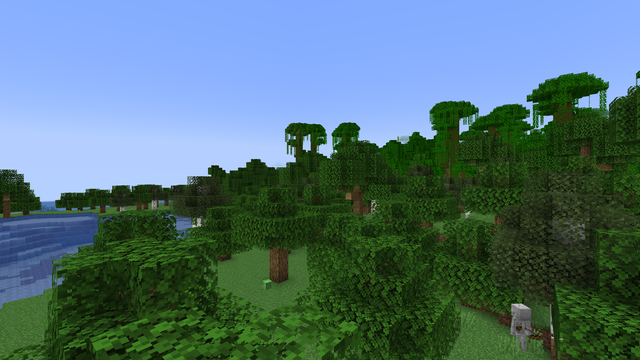slimes: (262, 278, 272, 289)
squelettes: (512, 302, 529, 357)
